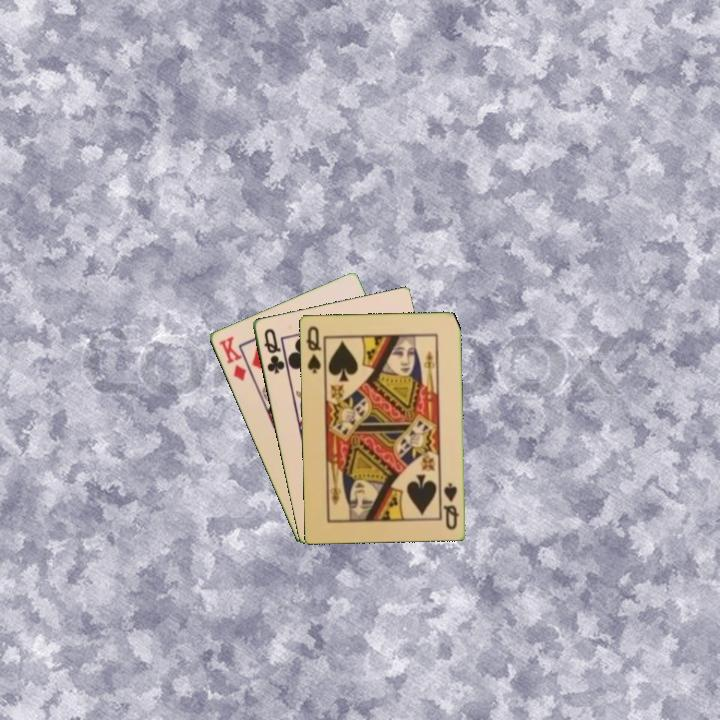Kd: (215, 332, 249, 384)
Qc: (260, 325, 287, 377)
Qs: (303, 322, 324, 376), (440, 479, 461, 532)
